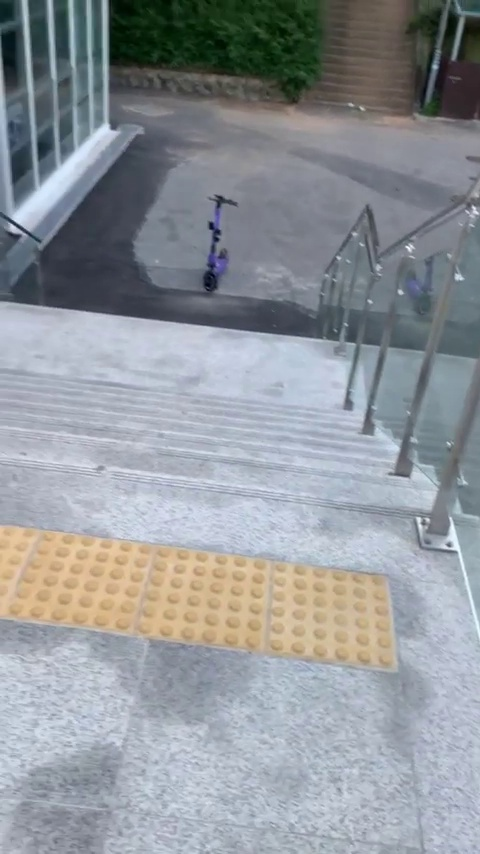beam: (200, 191, 250, 296)
